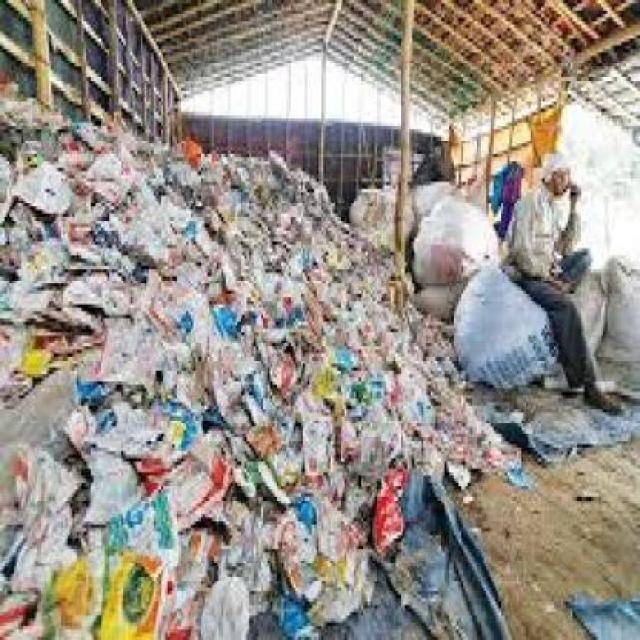garbage: (0, 115, 500, 632), (505, 396, 584, 459), (557, 580, 638, 636), (606, 256, 638, 382), (505, 151, 521, 200)
